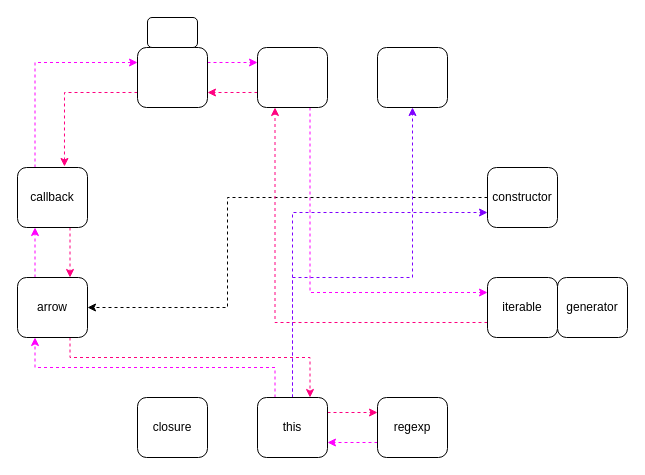
Some shapes in this 645 by 475 pixel diagram are drawn without their labels. The shapes that lost their labels are listed below. From the top down, each one's box as (x1, y1, x2, y2) in pixels, then its label:
(146, 16, 198, 48): await
(136, 46, 208, 108): async
(256, 46, 328, 108): promise
(376, 46, 448, 108): __proto__
